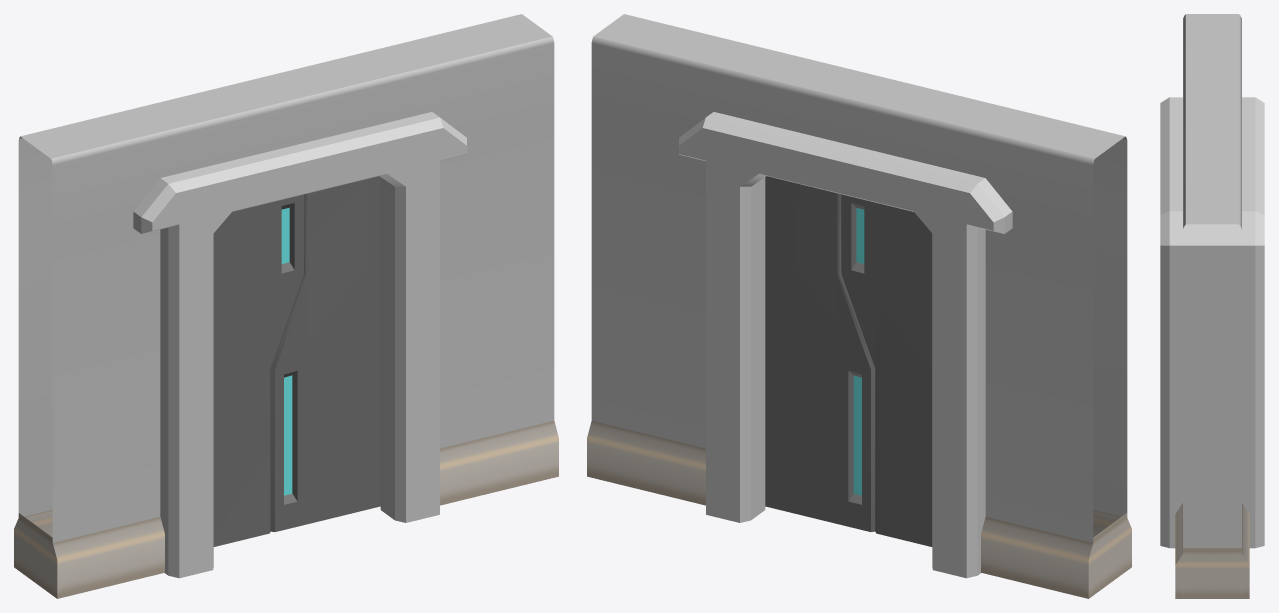
Rendered from Door-in-wall-beveled.fbx.
3 renders of one model, left to right at view 1: azimuth 30°, elevation 25°; view 2: azimuth 150°, elevation 25°; view 3: azimuth 270°, elevation 25°, orthographic. The views are drawn at different scales.
Parts seen in each view (by area): view 1: Door_wall, door_border1, door_closed7, door_closed6; view 2: Door_wall, door_border1, door_closed7, door_closed6; view 3: door_border1, Door_wall.
Boxes of the visible parts, x1,y1,x2,y2 form: Door_wall: [14, 14, 558, 598]; door_border1: [133, 112, 466, 578]; door_closed7: [270, 176, 380, 531]; door_closed6: [213, 194, 304, 546]; Door_wall: [587, 14, 1131, 598]; door_border1: [679, 112, 1012, 578]; door_closed7: [765, 176, 875, 531]; door_closed6: [841, 194, 932, 546]; door_border1: [1160, 97, 1264, 548]; Door_wall: [1175, 14, 1249, 598].
Bounding box in the file's own units: 4 × 3.32 × 0.8406.
